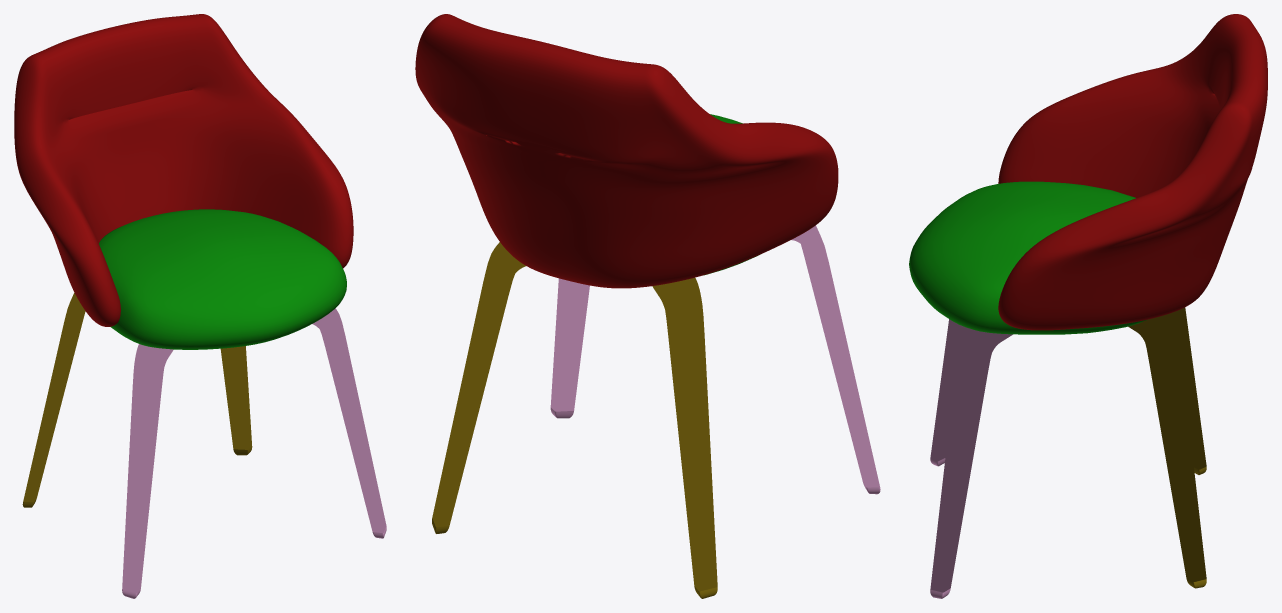
Rendered from modern chair 11 obj.obj.
3 renders of one model, left to right at view 1: azimuth 30°, elevation 25°; view 2: azimuth 150°, elevation 25°; view 3: azimuth 270°, elevation 25°, orthographic. The views are drawn at different scales.
Parts seen in each view (by area): view 1: Plane009, Box001, Line009, Line010; view 2: Plane009, Line010, Line009; view 3: Plane009, Box001, Line010, Line009.
Boxes of the visible parts, x1=… form: Plane009: x1=14, y1=14, x2=353, y2=326; Box001: x1=99, y1=209, x2=346, y2=349; Line009: x1=122, y1=308, x2=386, y2=598; Line010: x1=22, y1=293, x2=252, y2=507; Plane009: x1=415, y1=14, x2=838, y2=288; Line010: x1=432, y1=242, x2=717, y2=598; Line009: x1=550, y1=225, x2=880, y2=494; Plane009: x1=998, y1=14, x2=1267, y2=330; Box001: x1=909, y1=181, x2=1146, y2=334; Line010: x1=1128, y1=307, x2=1206, y2=588; Line009: x1=930, y1=319, x2=1012, y2=598.
Bounding box in the file's own units: 51.84 × 77.34 × 53.01.
